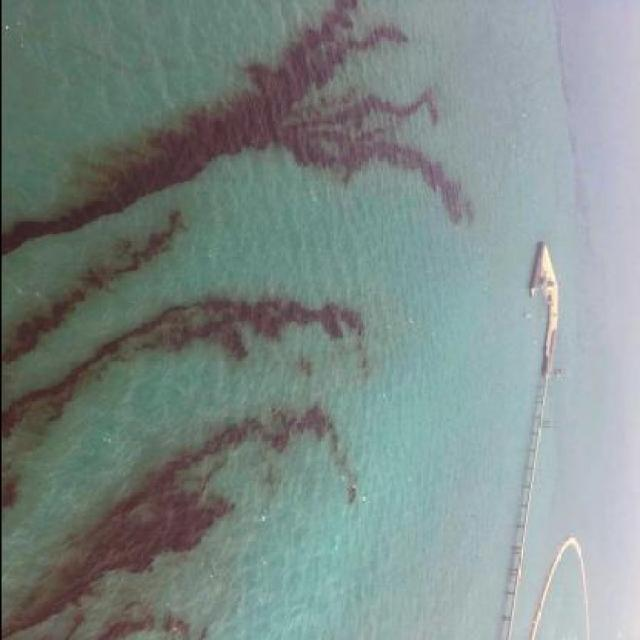truecolor: (2, 0, 472, 253), (3, 409, 332, 640), (2, 297, 365, 438)
